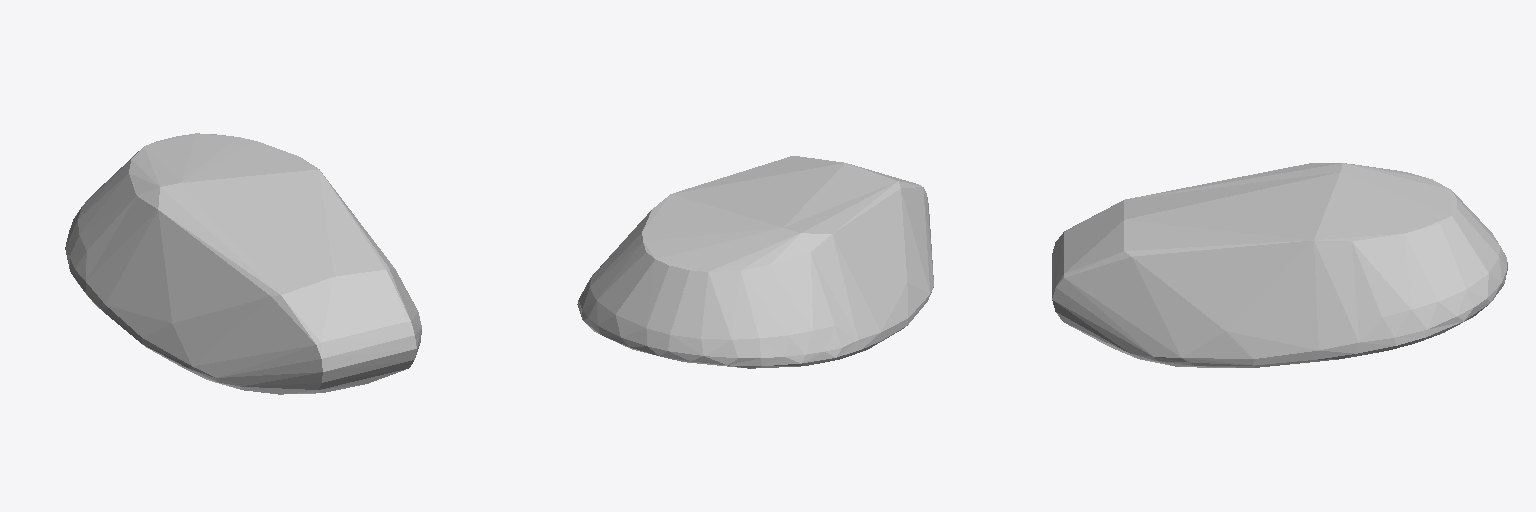
File: M103 Turret_plate.obj
3 renders of one model, left to right at view 1: azimuth 30°, elevation 25°; view 2: azimuth 150°, elevation 25°; view 3: azimuth 270°, elevation 25°, orthographic.
Visible parts, largest first — view 1: Turret_plate_american\A66_M103\normal\l\Turret_02.pri~11~6.563; view 2: Turret_plate_american\A66_M103\normal\l\Turret_02.pri~11~6.563; view 3: Turret_plate_american\A66_M103\normal\l\Turret_02.pri~11~6.563.
Part boxes in pixels (bbox=[...]): Turret_plate_american\A66_M103\normal\l\Turret_02.pri~11~6.563: bbox=[65, 133, 421, 394]; Turret_plate_american\A66_M103\normal\l\Turret_02.pri~11~6.563: bbox=[577, 156, 933, 368]; Turret_plate_american\A66_M103\normal\l\Turret_02.pri~11~6.563: bbox=[1052, 163, 1507, 367].
Bounding box in the file's own units: 119 × 53.25 × 178.